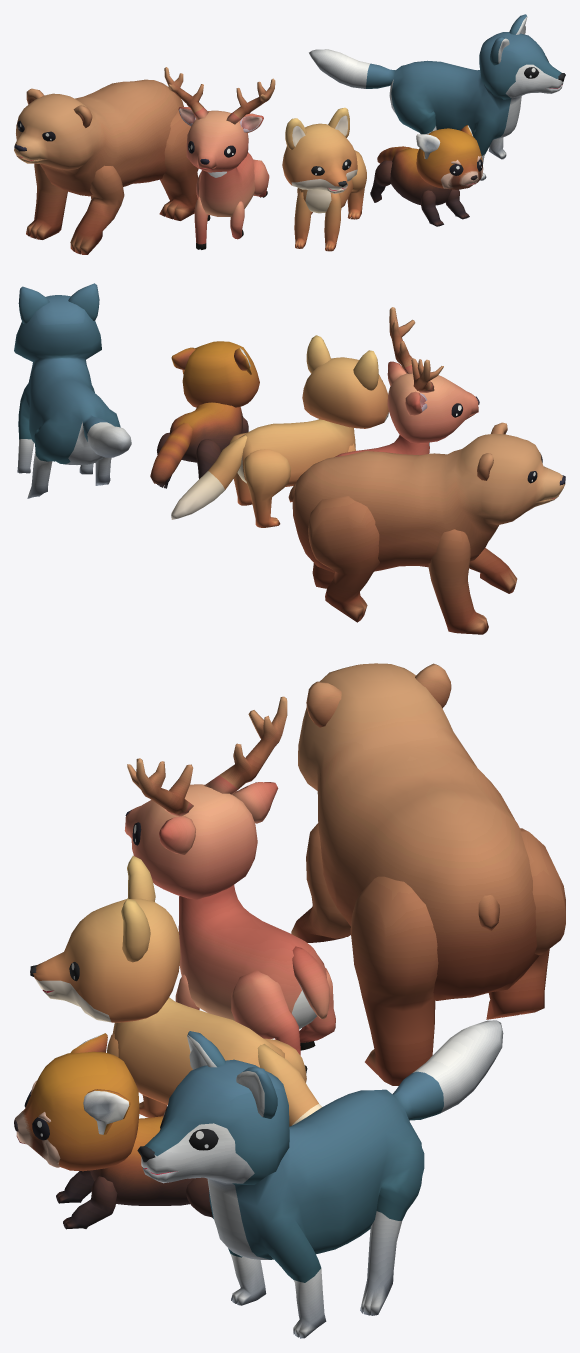
Rendered from Animals.fbx.
3 views of the same model, one above another, from view 1: azimuth 30°, elevation 25°; view 2: azimuth 150°, elevation 25°; view 3: azimuth 270°, elevation 25° (orthographic). The views are drawn at different scales.
Parts seen in each view (by area): view 1: Bear.HD, Wolf.HD, Deer.HD, Fox.HD, RedPanda.HD; view 2: Bear.HD, Wolf.HD, Fox.HD, RedPanda.HD, Deer.HD; view 3: Bear.HD, Wolf.HD, Deer.HD, Fox.HD, RedPanda.HD.
Boxes of the visible parts, bbox=[...] form: Bear.HD: bbox=[14, 79, 198, 254]; Wolf.HD: bbox=[309, 14, 565, 180]; Deer.HD: bbox=[164, 67, 275, 249]; Fox.HD: bbox=[282, 107, 366, 251]; RedPanda.HD: bbox=[370, 125, 483, 226]; Bear.HD: bbox=[288, 422, 565, 634]; Wolf.HD: bbox=[14, 283, 131, 498]; Fox.HD: bbox=[171, 335, 389, 527]; RedPanda.HD: bbox=[150, 341, 259, 488]; Deer.HD: bbox=[334, 307, 479, 457]; Bear.HD: bbox=[291, 663, 565, 1085]; Wolf.HD: bbox=[137, 1020, 503, 1338]; Deer.HD: bbox=[124, 696, 335, 1073]; Fox.HD: bbox=[30, 855, 321, 1126]; RedPanda.HD: bbox=[14, 1033, 212, 1229].
Bounding box in the file's own units: 2127 × 731 × 1098.
